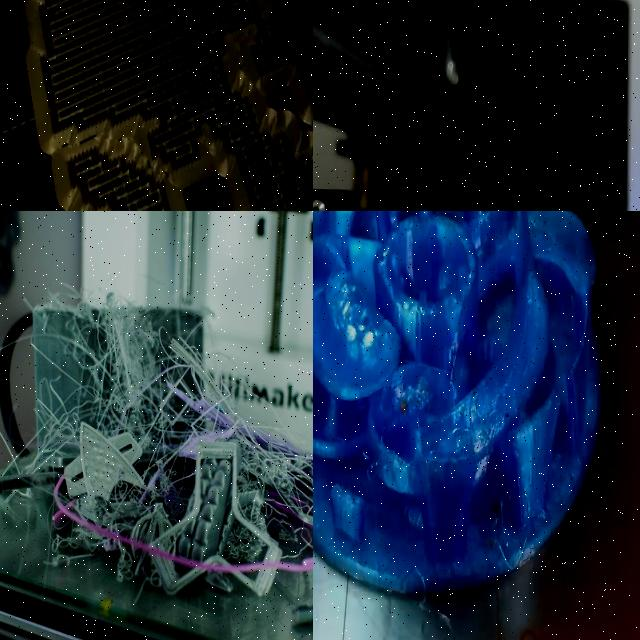spaghetti: (0, 259, 313, 640), (392, 557, 462, 640), (487, 526, 549, 608), (386, 376, 440, 426), (449, 384, 483, 450), (354, 444, 389, 490)
